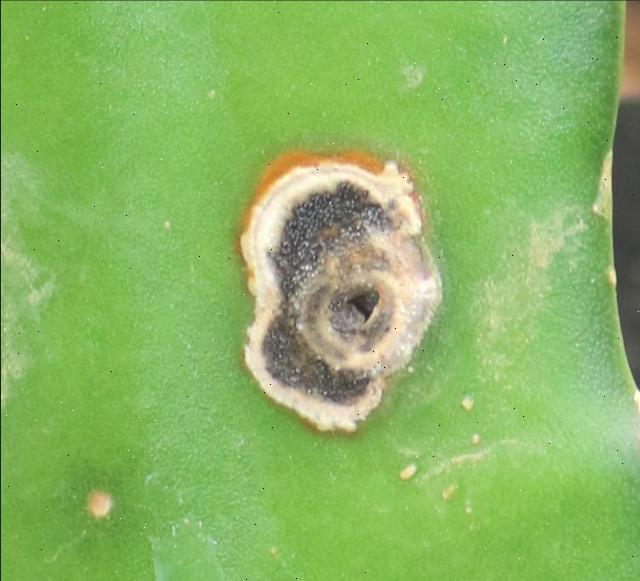stemcanker: (226, 133, 451, 444)
